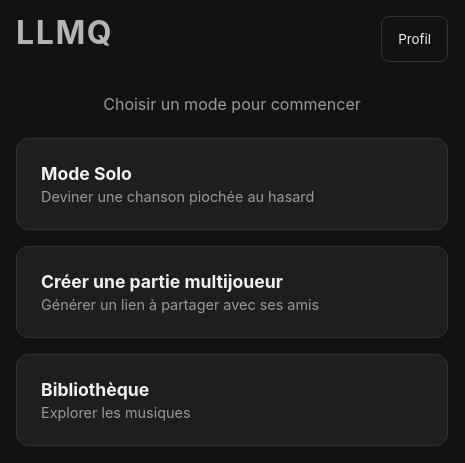
Test: App — Random mode generation filter › the Mode Solo quiz has no description under the title
Click the text "Mode Solo": (86, 173) top-left (41, 163), bottom-right (132, 184)
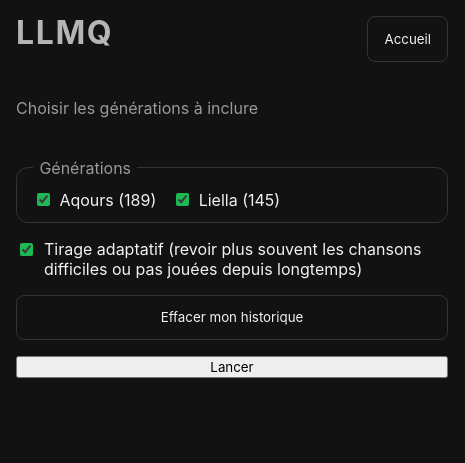
Click the button "Lancer": (232, 367) top-left (16, 356), bottom-right (448, 378)
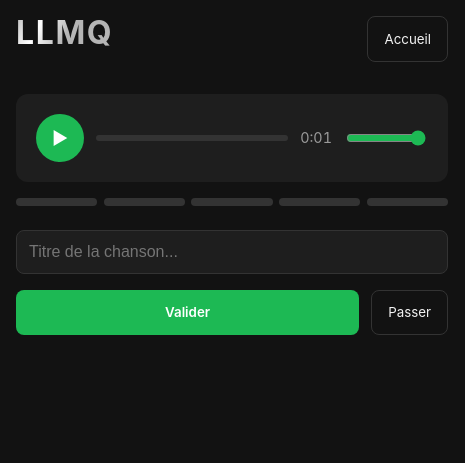
Result: the button "Valider" is shown at top-left (16, 290), bottom-right (359, 335)
